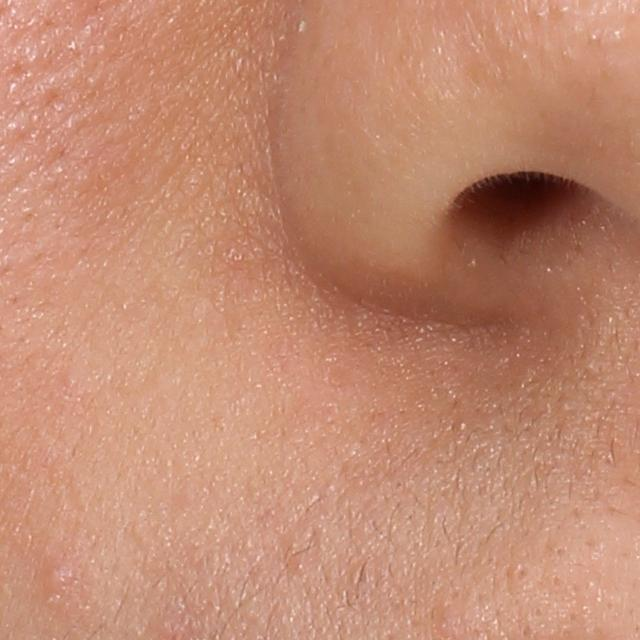papule: (44, 561, 78, 595)
